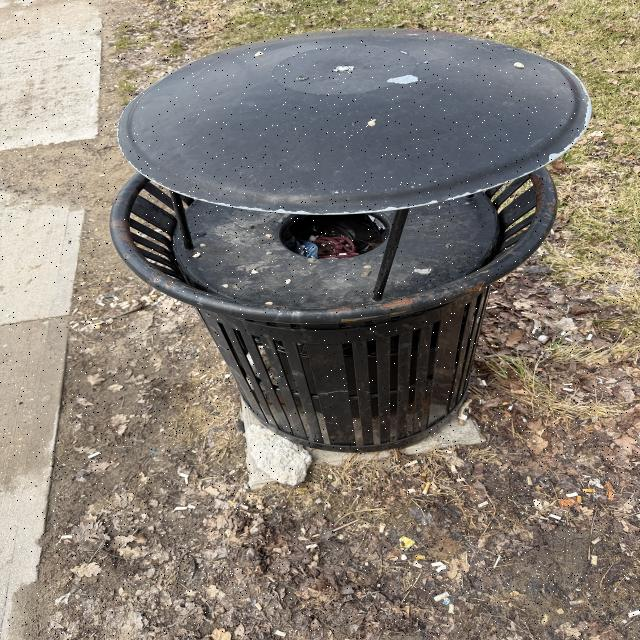Dustbin: (108, 29, 593, 452)
